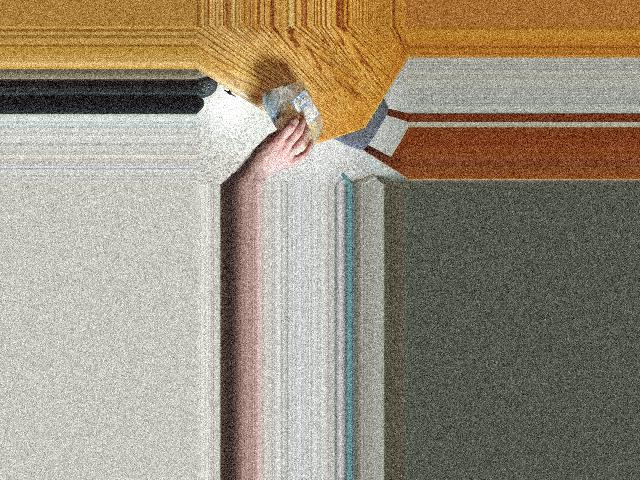cheese: (279, 87, 319, 144)
